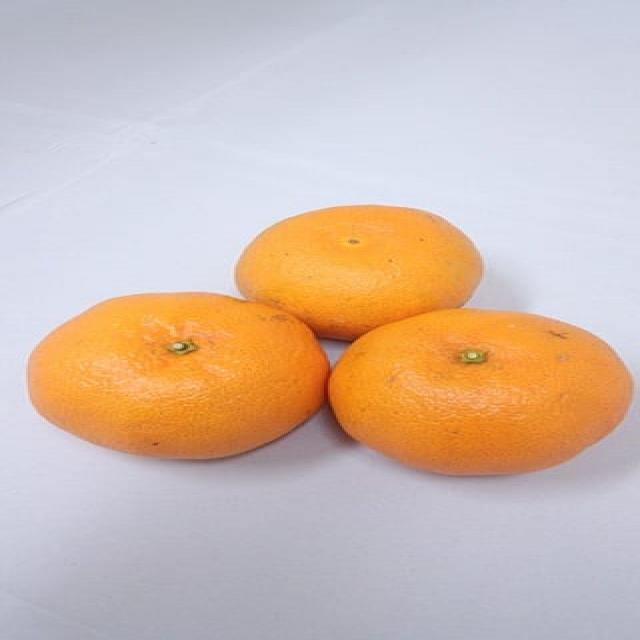Orange: (326, 308, 631, 480), (30, 292, 328, 460), (234, 202, 487, 343)
